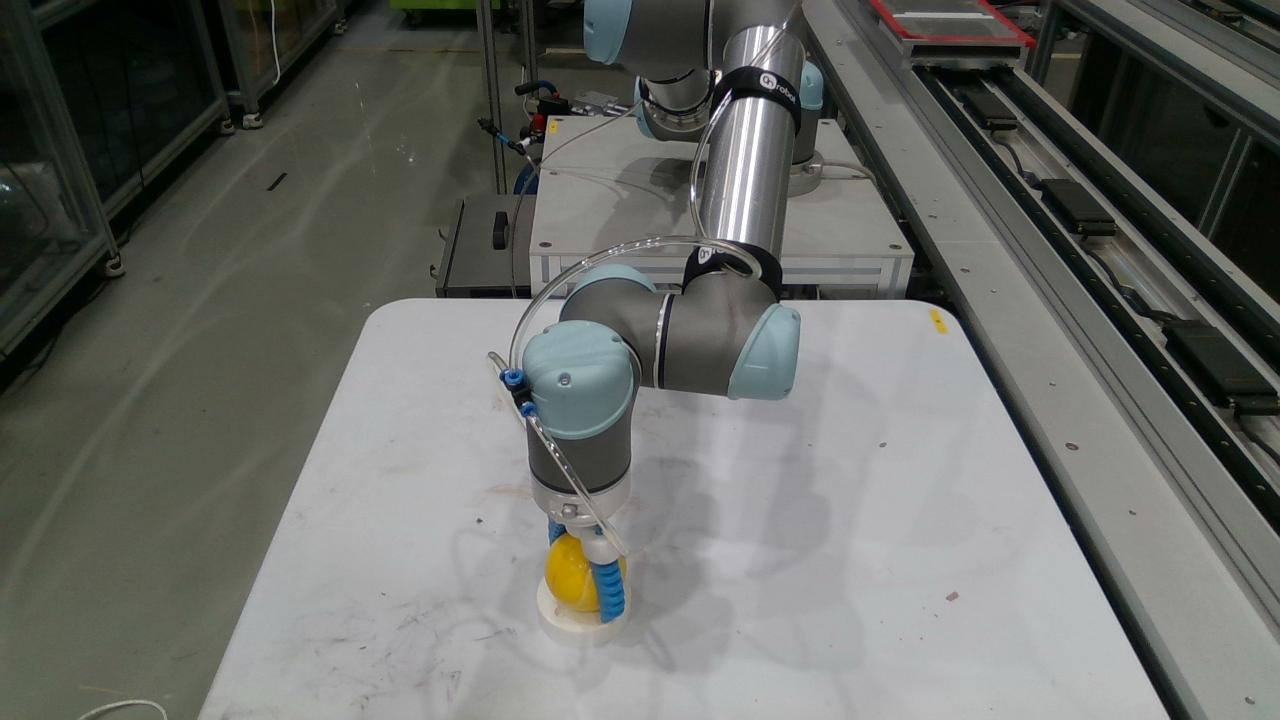UR5: (501, 0, 823, 621)
gripper_left: (548, 520, 566, 544)
gripper_right: (594, 562, 622, 620)
target: (536, 580, 627, 645), (545, 532, 596, 611), (622, 558, 630, 598)
